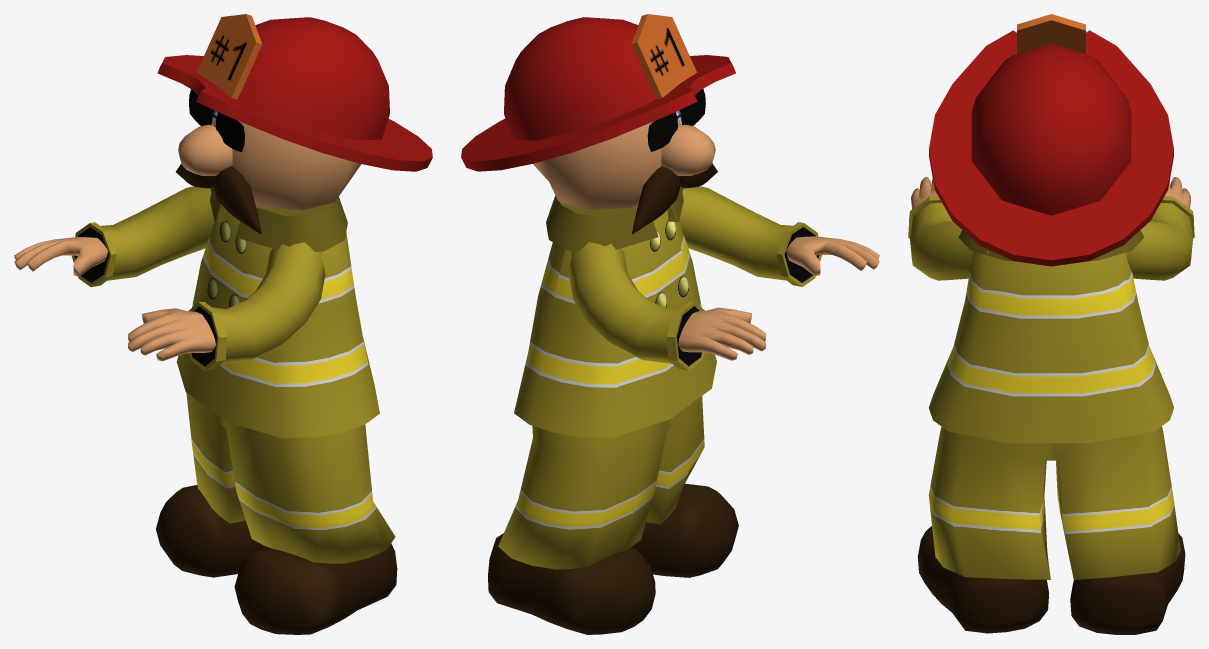
The model's file is FireFighter_pumping02_textured_new.fbx.
The picture shows the model from 3 angles, left to right: view 1: azimuth 30°, elevation 25°; view 2: azimuth 150°, elevation 25°; view 3: azimuth 270°, elevation 25°; orthographic projection.
Visible parts, largest first — view 1: polySurface522; view 2: polySurface522; view 3: polySurface522.
Part boxes in pixels (x1,y1,x2,y2): polySurface522: [14, 14, 432, 634]; polySurface522: [461, 14, 879, 634]; polySurface522: [908, 14, 1194, 634].
Bounding box in the file's own units: 297 × 469 × 214.
